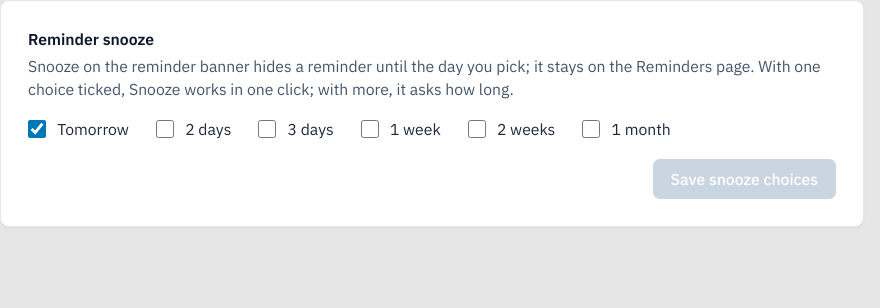
it: SnoozeSettingsCard › shows why saving failed and keeps the choices
Click the checkbox labelled "2 days" at (165, 129), box [156, 120, 174, 138]
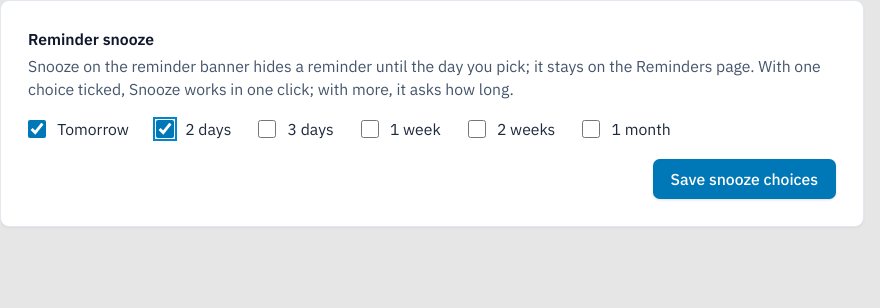
Click the button "Save snooze choices" at (744, 179), box [653, 158, 836, 199]
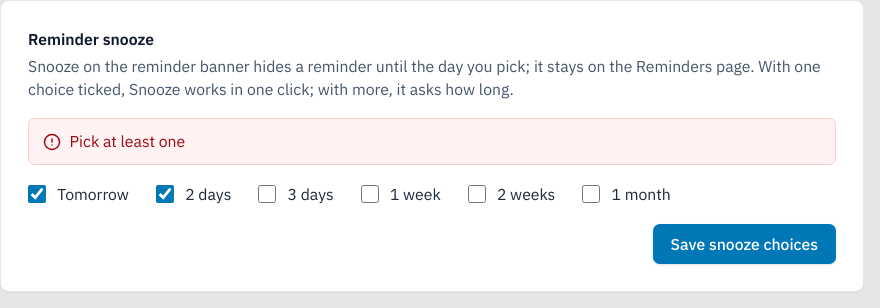
Expected: the checkbox labelled "2 days" is checked, [156, 185, 174, 203]
Expected: the text "Pick at least one" is shown, [70, 130, 185, 153]
